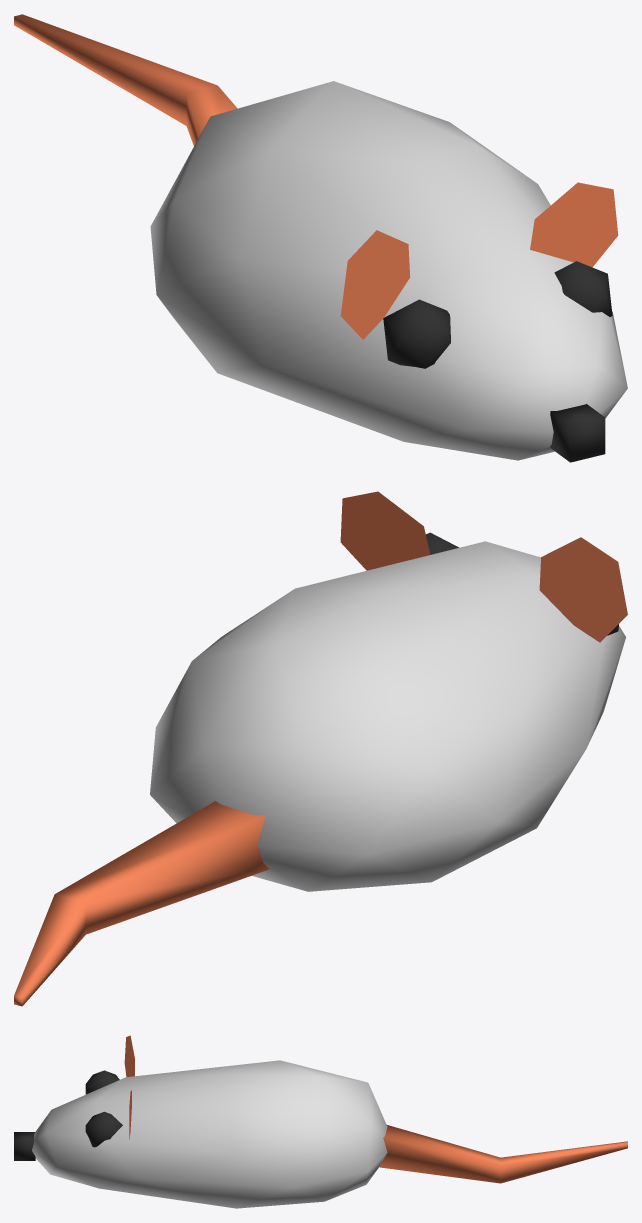
File: CatRat.fbx
3 renders of one model, top to bottom at view 1: azimuth 30°, elevation 25°; view 2: azimuth 150°, elevation 25°; view 3: azimuth 270°, elevation 25°, orthographic. The views are drawn at different scales.
Visible parts, largest first — view 1: Rats; view 2: Rats; view 3: Rats.
Boxes of the visible parts, x1=… form: Rats: x1=14, y1=14, x2=627, y2=462; Rats: x1=14, y1=491, x2=627, y2=1006; Rats: x1=14, y1=1035, x2=627, y2=1208.
Size of the model in its own units: 178 by 111 by 507.
